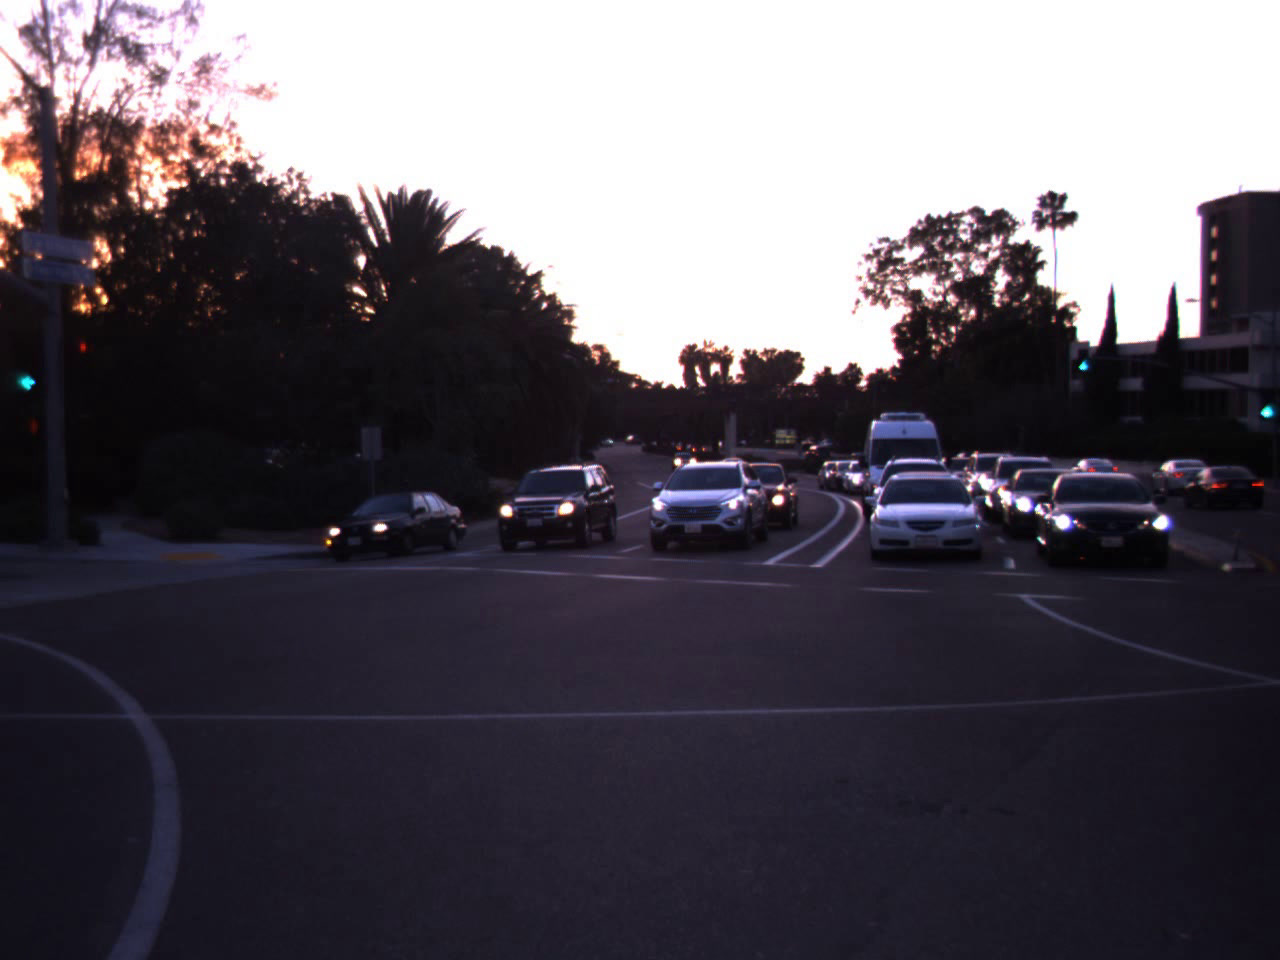go: (4, 327, 52, 397), (1245, 365, 1280, 425), (1064, 334, 1103, 374)
